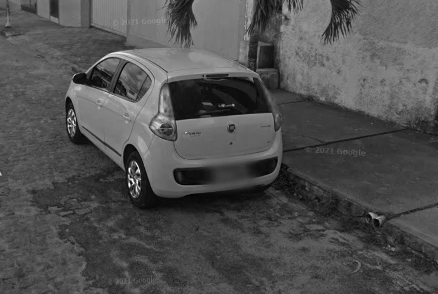car: (63, 43, 287, 211)
